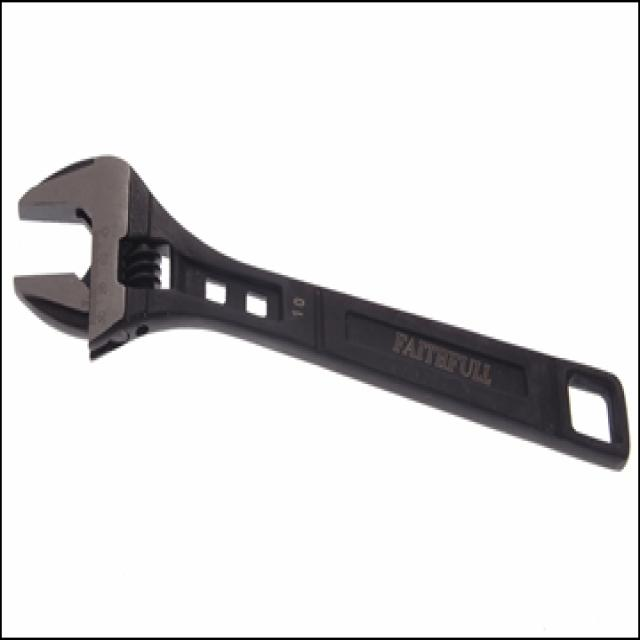wrench: (5, 147, 384, 441)
